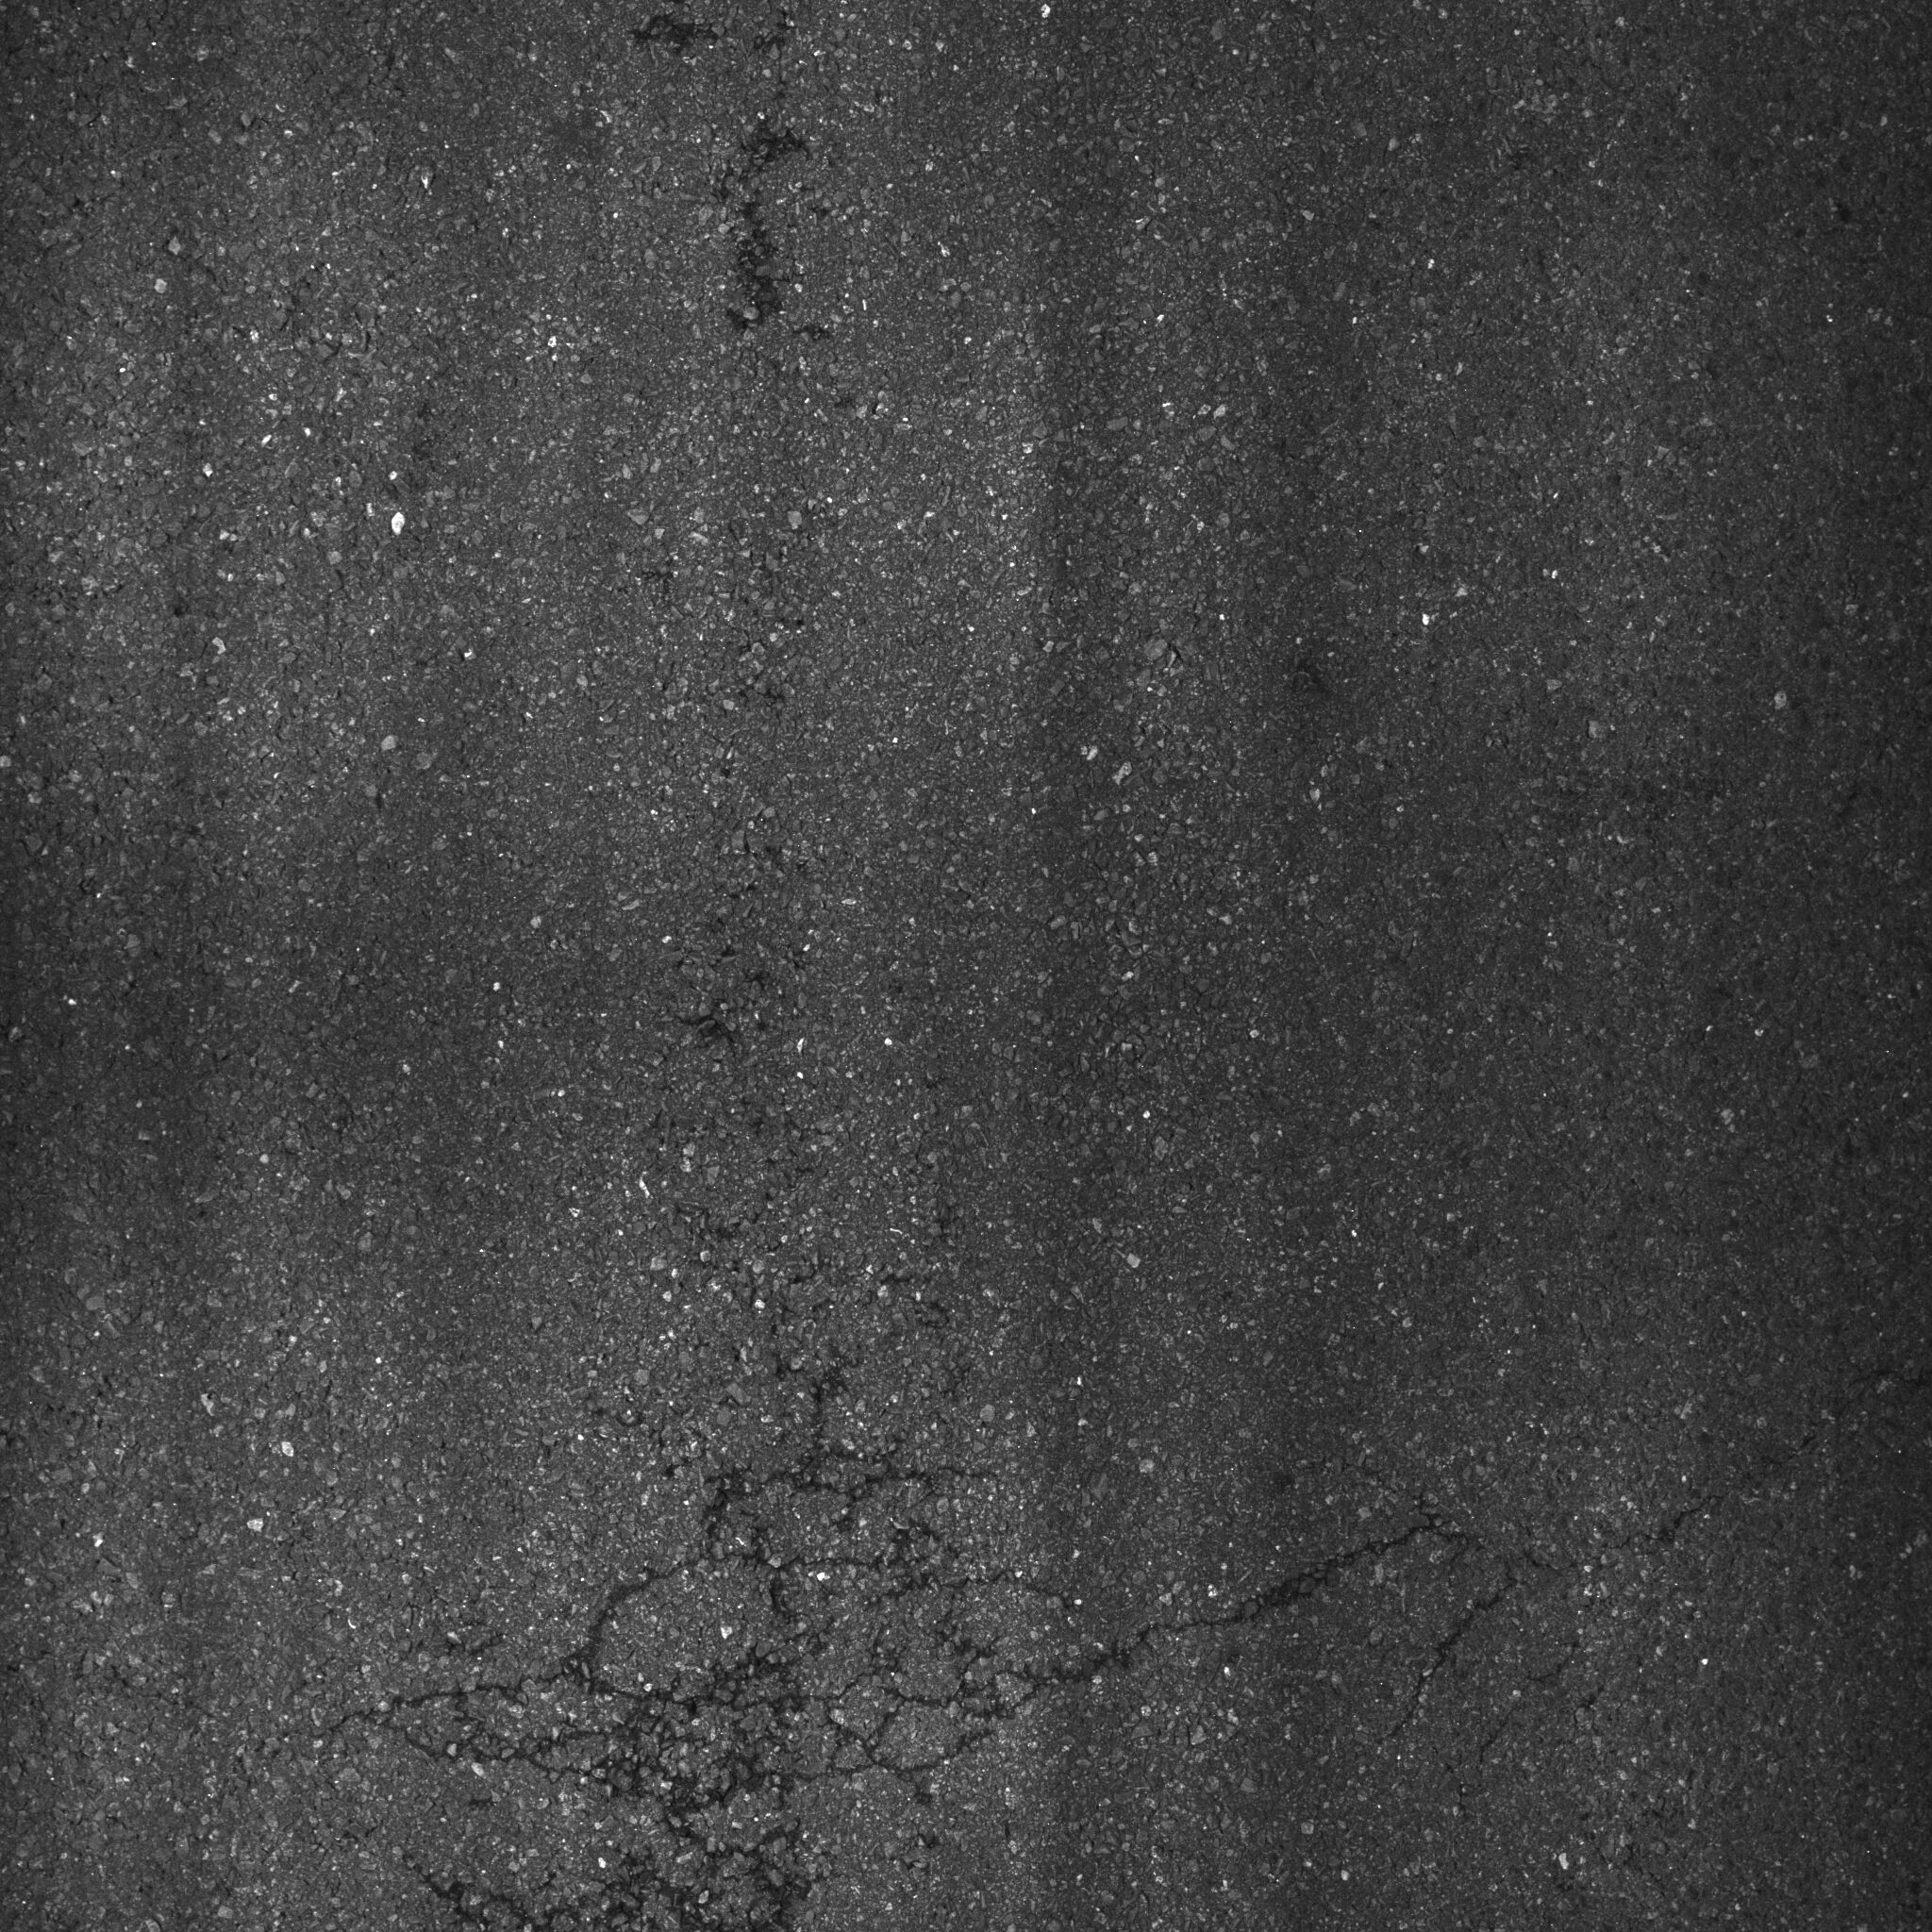alligator: (317, 1348, 1686, 1932)
